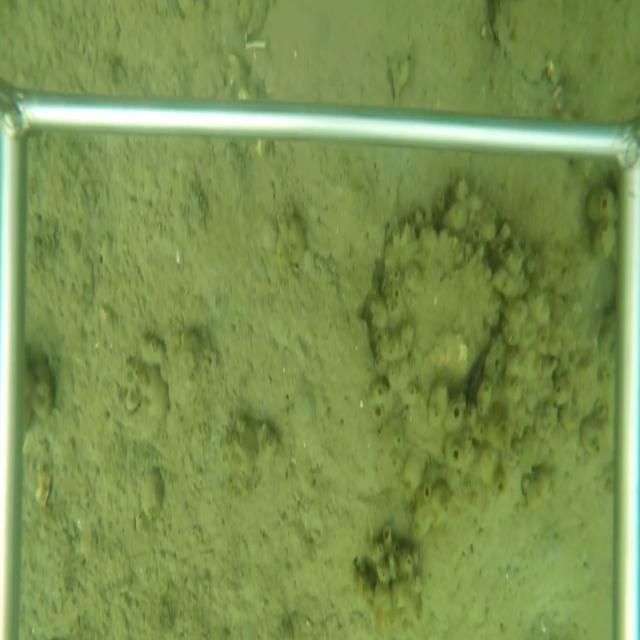Oyster-Indeterminate: (369, 223, 506, 409)
